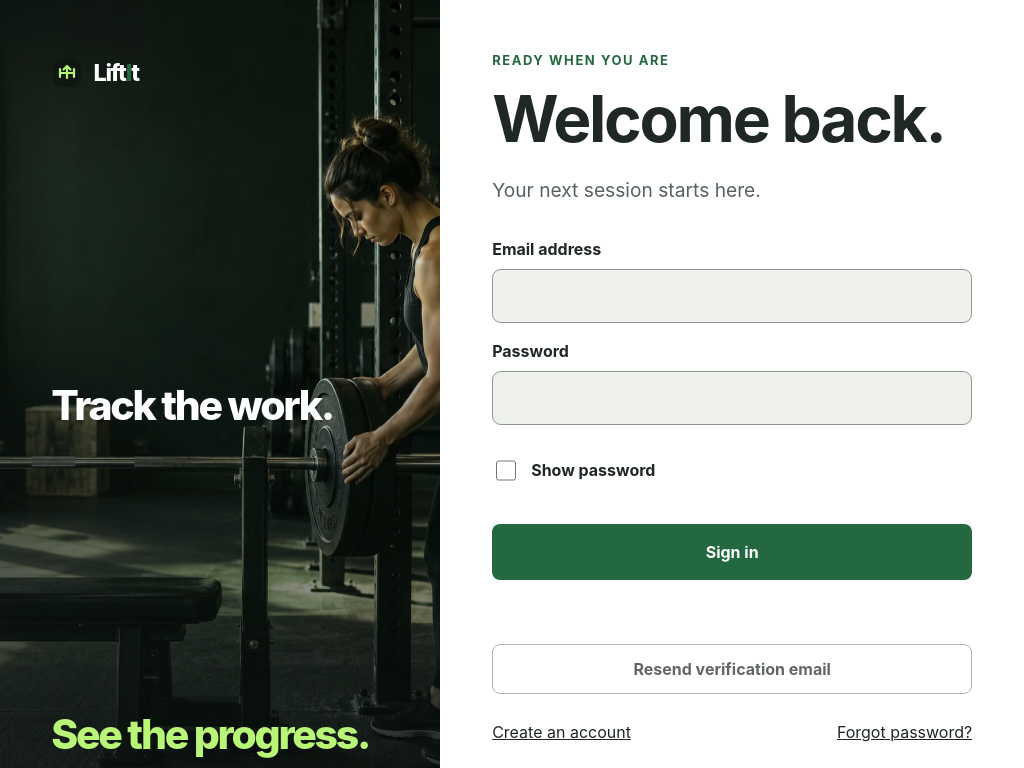
account foundation › preserves email and password on network failure
In the field labelled "Email address": (732, 296) [492,269,972,323], type "lifter@example.com"
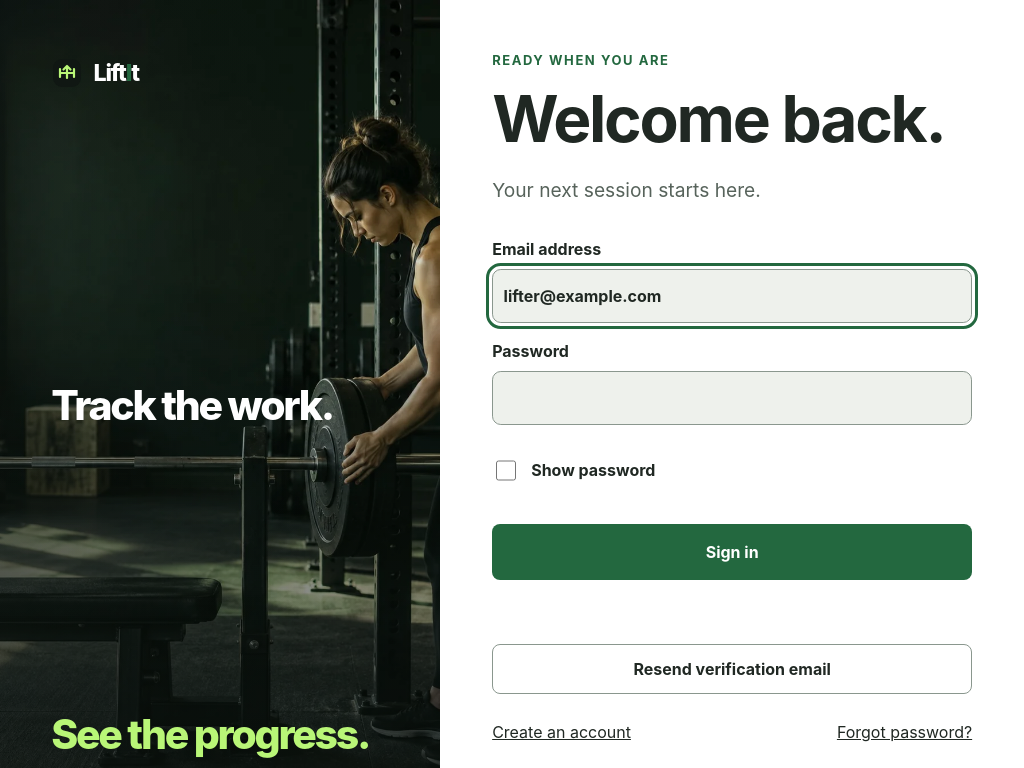
In the password field labelled "Password": (732, 398) [492,371,972,425], type "a-long-password"
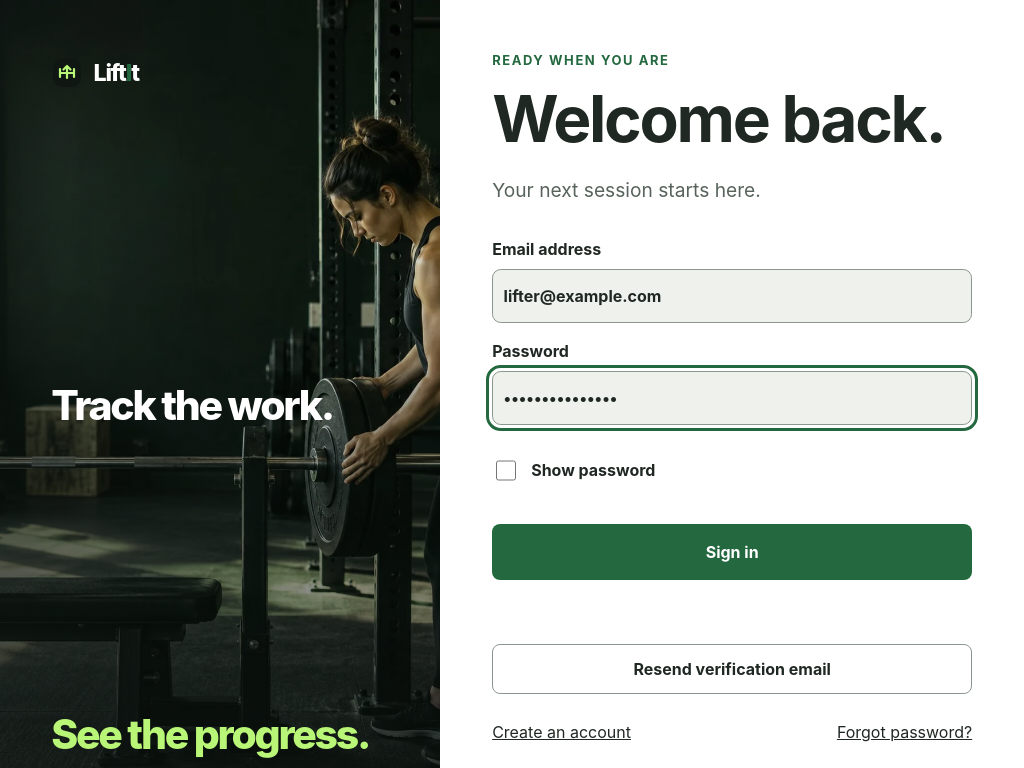
Click the button "Sign in": (732, 552) [492,524,972,580]
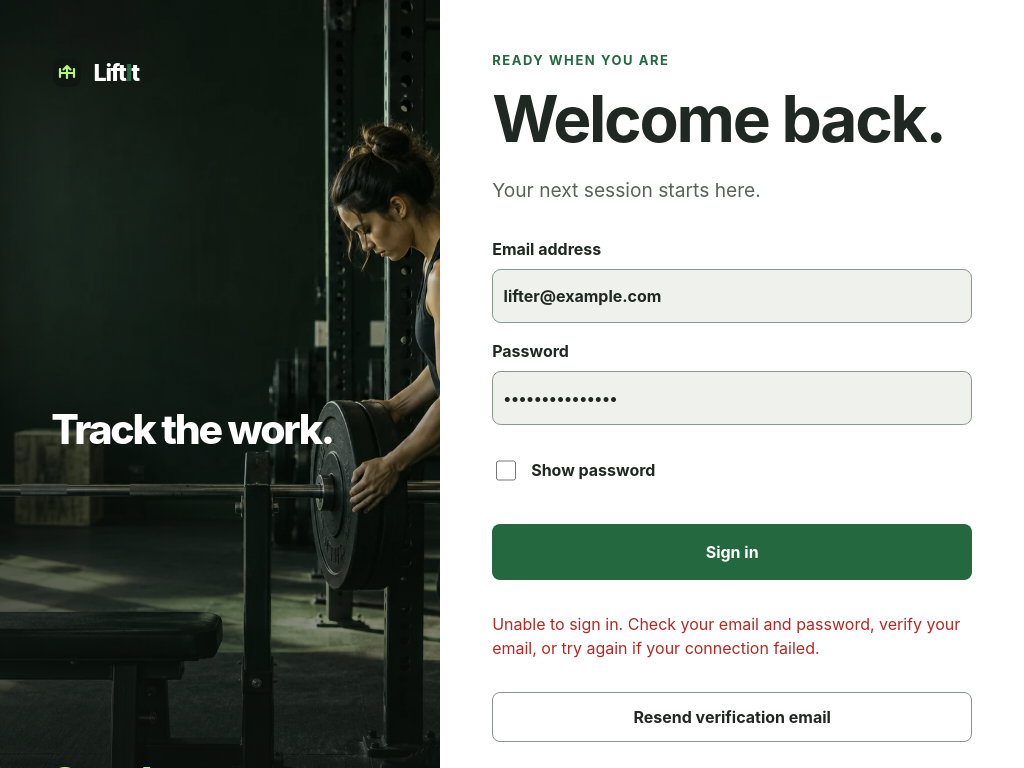
Check: the message shows "Unable to sign in", box [492,614,960,658]
